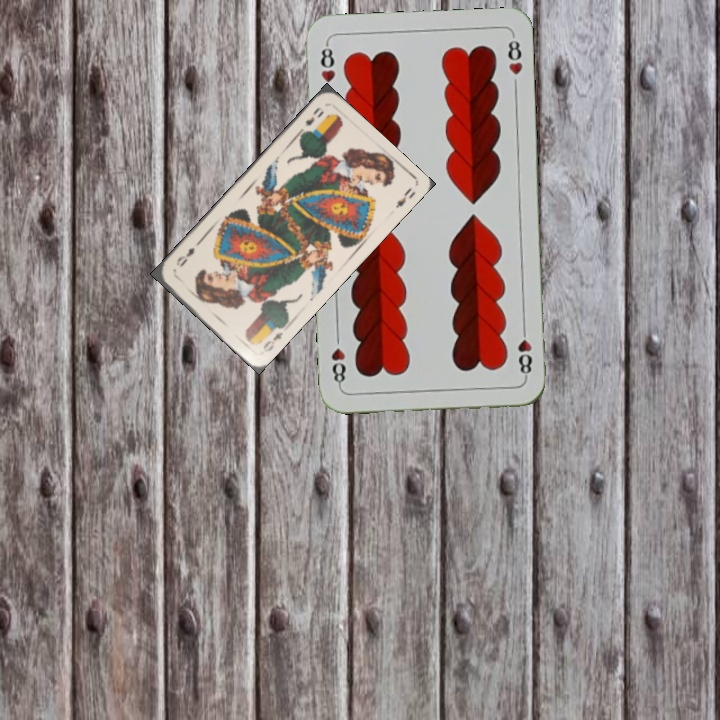EO: (296, 103, 326, 136), (259, 328, 285, 355)
H8: (514, 322, 535, 381), (317, 39, 338, 85)
